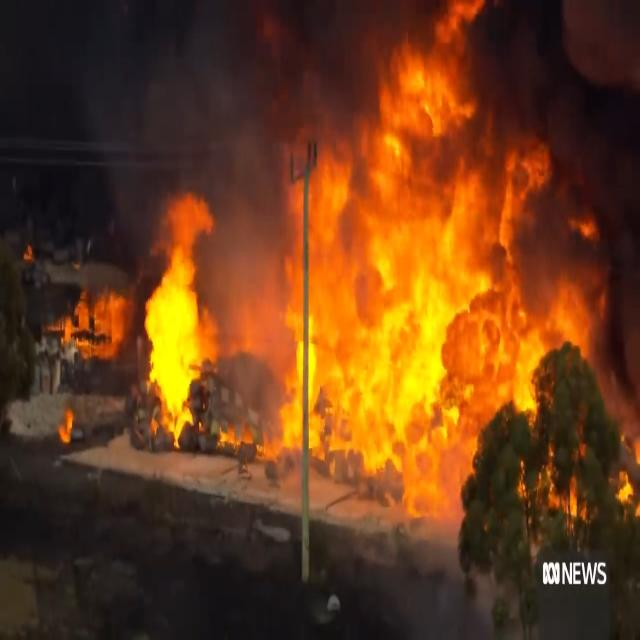fire: (99, 1, 603, 523), (51, 394, 80, 441)
